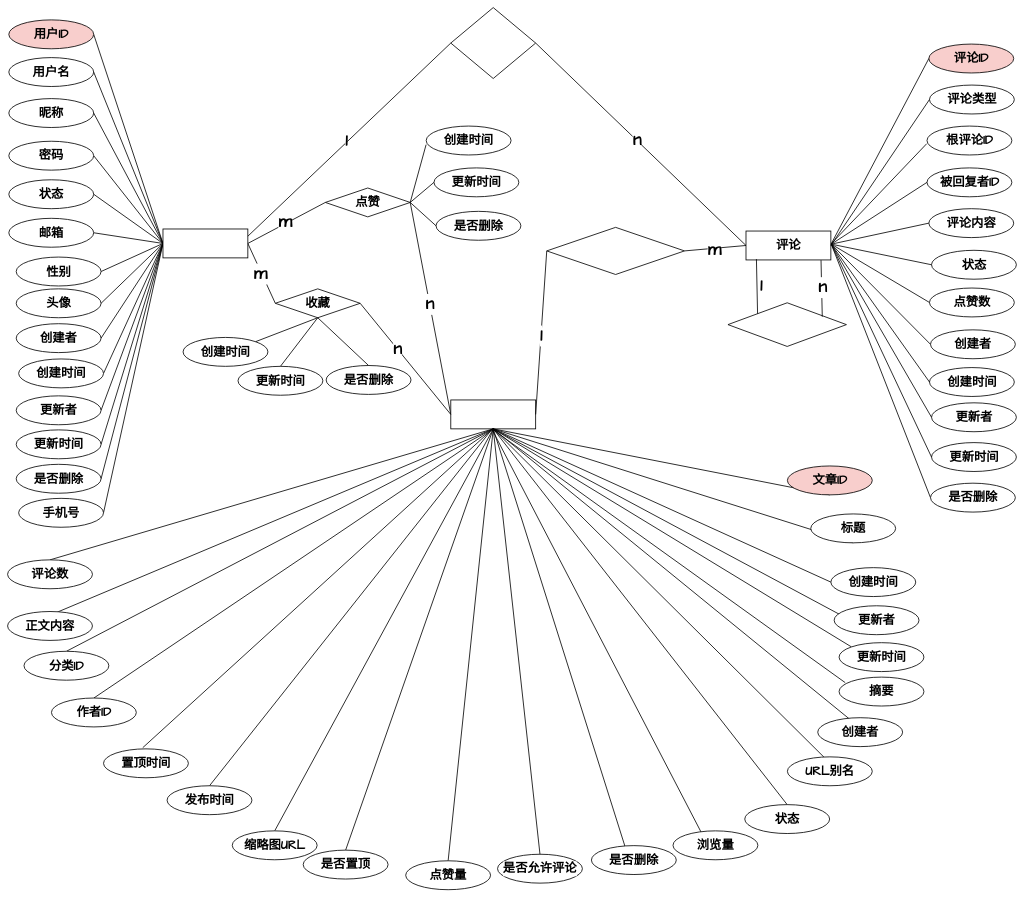
Some shapes in this 1024 by 897 pixel diagram are drawn without their labels. The box of each missing label's shape, as (x1, y1, x2, y2) in pixels:
包含评论: (546, 227, 685, 275)
发表评论: (450, 7, 536, 79)
回复评论: (727, 302, 847, 347)
文章: (450, 399, 536, 429)
用户: (162, 228, 248, 258)
